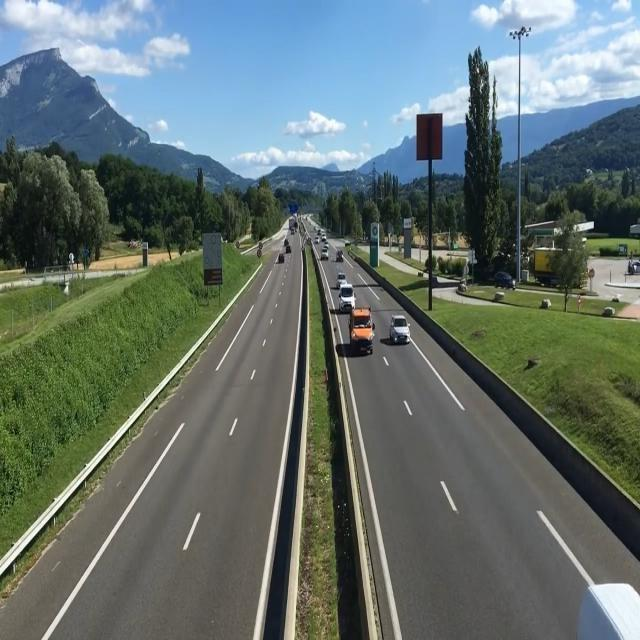Car: (389, 312, 412, 343), (339, 284, 356, 310), (335, 272, 348, 288), (276, 250, 286, 265), (321, 246, 329, 262), (336, 250, 346, 262), (285, 245, 293, 254), (314, 235, 320, 244)
Truck: (346, 306, 376, 351)
